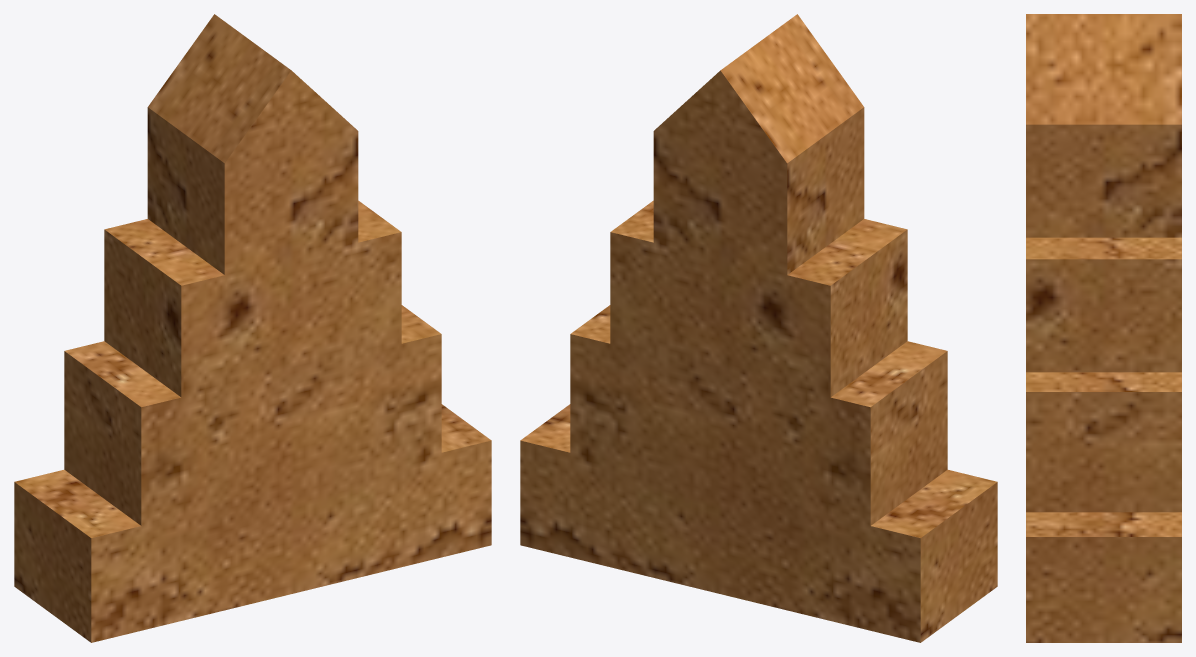
File: crenel.glb
3 renders of one model, left to right at view 1: azimuth 30°, elevation 25°; view 2: azimuth 150°, elevation 25°; view 3: azimuth 270°, elevation 25°, orthographic.
Visible parts, largest first — view 1: Crenel; view 2: Crenel; view 3: Crenel.
Part boxes in pixels (x1=…): Crenel: x1=14, y1=14, x2=491, y2=642; Crenel: x1=520, y1=14, x2=997, y2=642; Crenel: x1=1026, y1=14, x2=1181, y2=642.
Bounding box in the file's own units: 0.6 × 0.75 × 0.2.
1 material, 1 textured.
